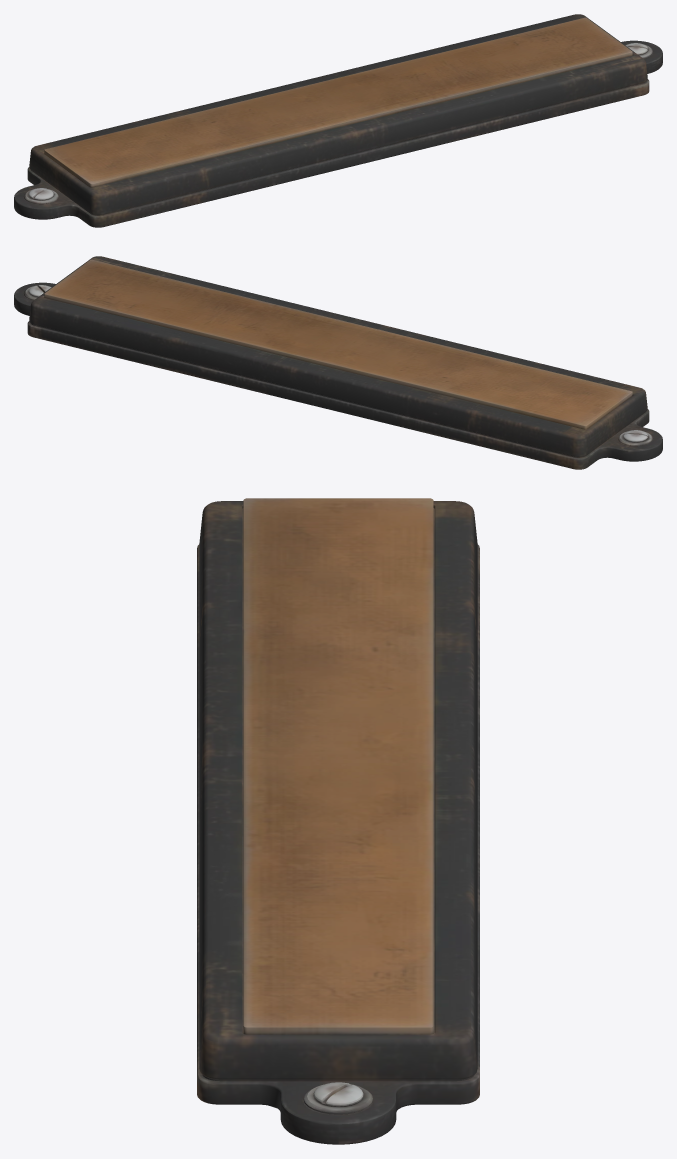
Rendered from morsettiera.glb.
3 renders of one model, top to bottom at view 1: azimuth 30°, elevation 25°; view 2: azimuth 150°, elevation 25°; view 3: azimuth 270°, elevation 25°, orthographic. The views are drawn at different scales.
Parts seen in each view (by area): view 1: 03 | Single uninterrupted flat bus rail, 02 | Compression-moulded black barrier body, 01 | Sole and integral mounting ears; view 2: 03 | Single uninterrupted flat bus rail, 02 | Compression-moulded black barrier body, 01 | Sole and integral mounting ears; view 3: 03 | Single uninterrupted flat bus rail, 02 | Compression-moulded black barrier body, 01 | Sole and integral mounting ears, 05B | Nickel slotted oval-head screw.
Part boxes in pixels (x1,y1,x2,y2): 03 | Single uninterrupted flat bus rail: [44, 17, 632, 187]; 02 | Compression-moulded black barrier body: [29, 14, 647, 215]; 01 | Sole and integral mounting ears: [14, 40, 662, 227]; 03 | Single uninterrupted flat bus rail: [44, 259, 632, 429]; 02 | Compression-moulded black barrier body: [29, 256, 647, 457]; 01 | Sole and integral mounting ears: [14, 282, 662, 469]; 03 | Single uninterrupted flat bus rail: [243, 498, 433, 1034]; 02 | Compression-moulded black barrier body: [199, 501, 477, 1081]; 01 | Sole and integral mounting ears: [197, 544, 479, 1144]; 05B | Nickel slotted oval-head screw: [313, 1082, 363, 1106].
Size of the model in its own units: 2 by 0.1043 by 0.3826.
Materials: 1 (1 with a texture image).
